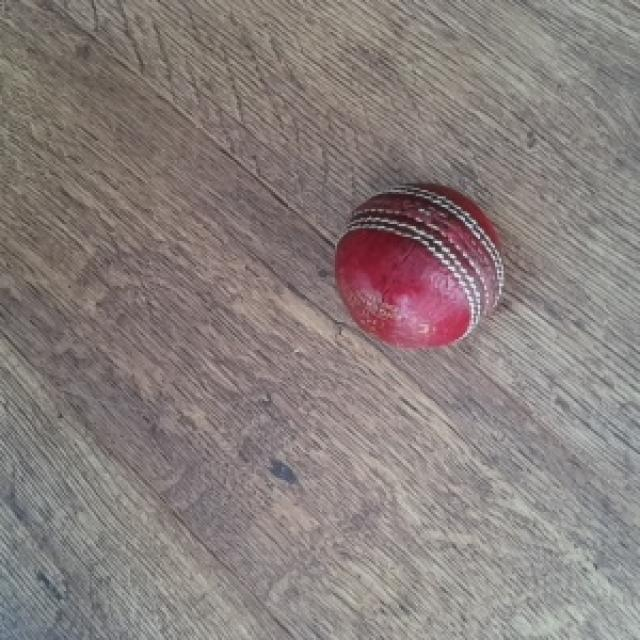ball: (333, 183, 503, 352)
